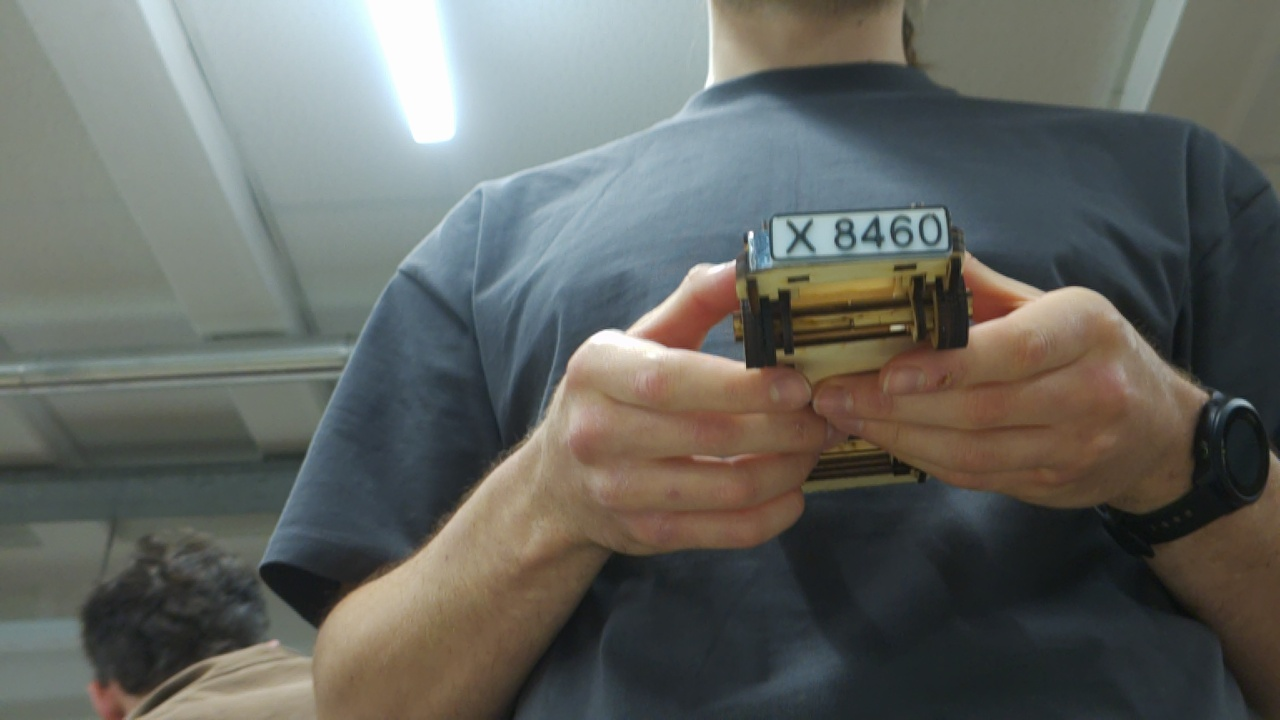license_plate: (761, 204, 959, 264)
